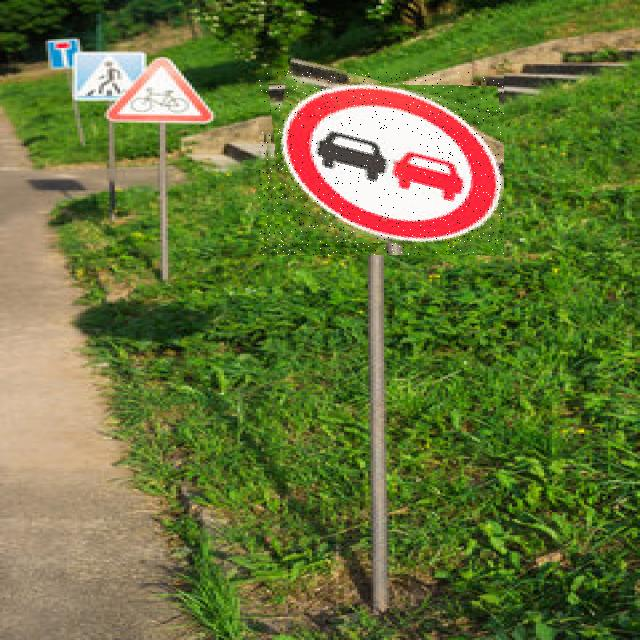no overtaking: (259, 71, 504, 255)
